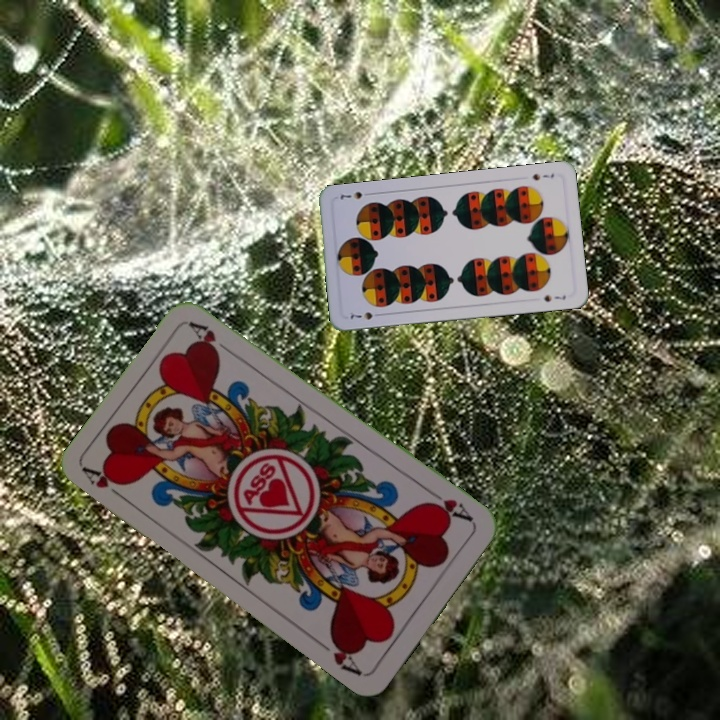HA: (80, 463, 132, 505), (422, 486, 476, 525)
S7: (345, 308, 385, 322), (529, 169, 557, 183)
